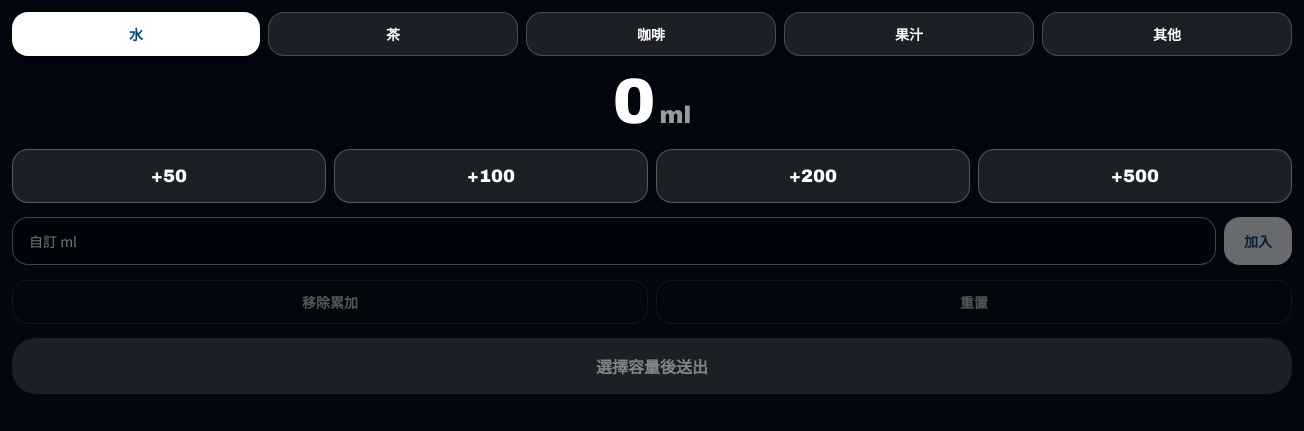
DrinkLogger — accumulator › accumulates multiple amounts
The image size is (1304, 431).
Click the button "+200": (813, 176) [656,149,970,203]
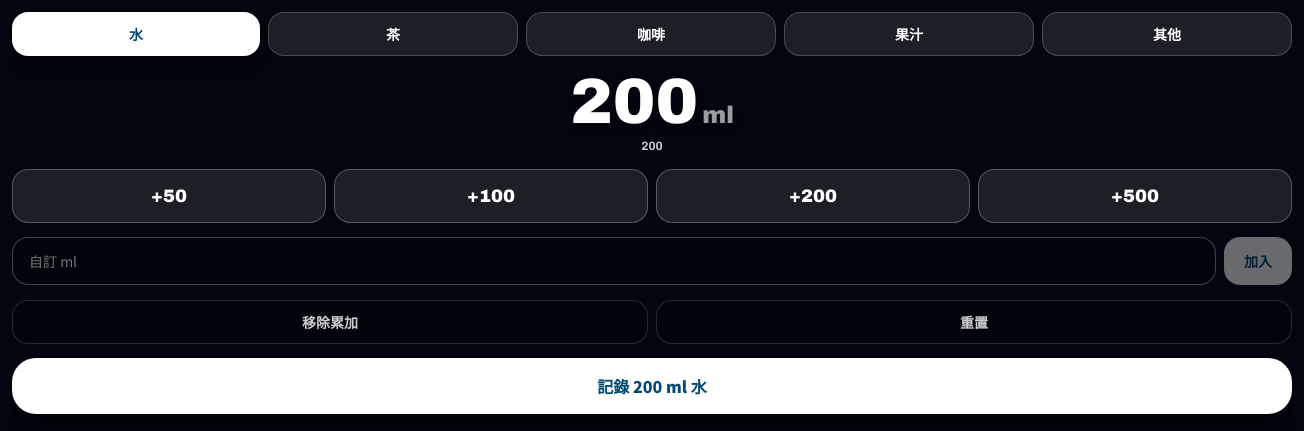
Click the button "+50": (169, 196) [12,169,326,223]
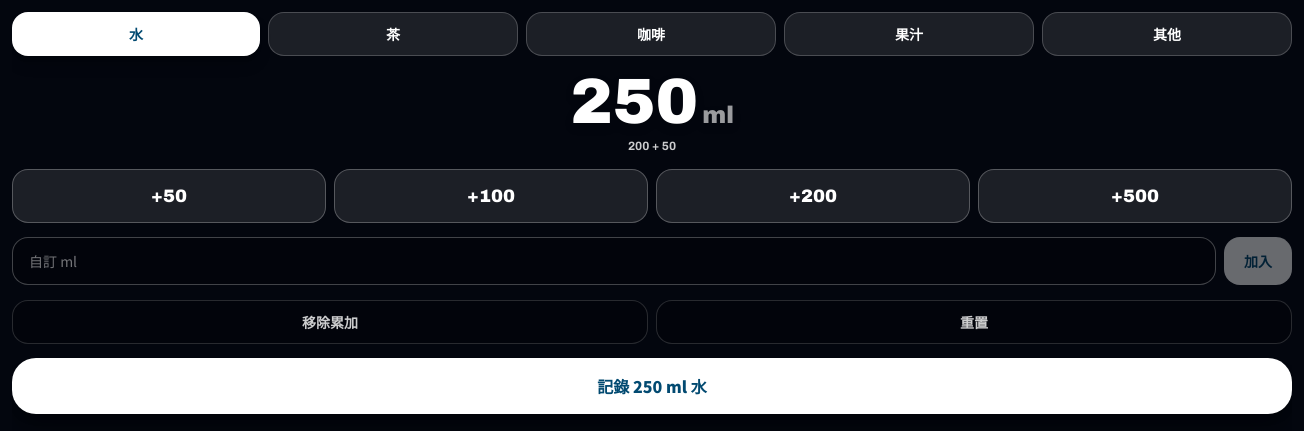
expect the element with test id "running-total" shows "250": met, box [570,67,698,136]
